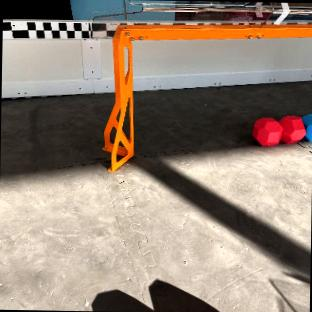V5_BLUE: (302, 113, 312, 141)
V5_RED: (252, 115, 305, 146)
